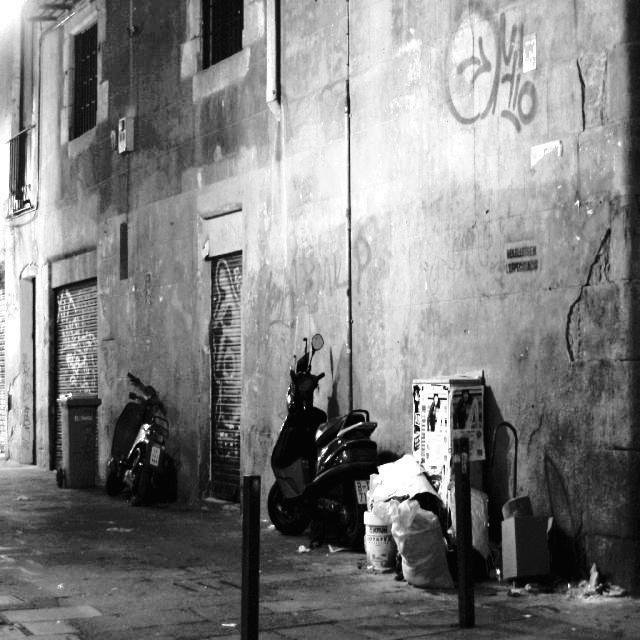Motorcycle: (261, 319, 409, 565), (98, 371, 186, 526)
